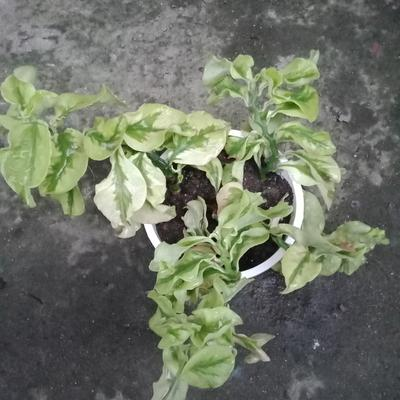Pothos plant: (29, 75, 375, 357)
